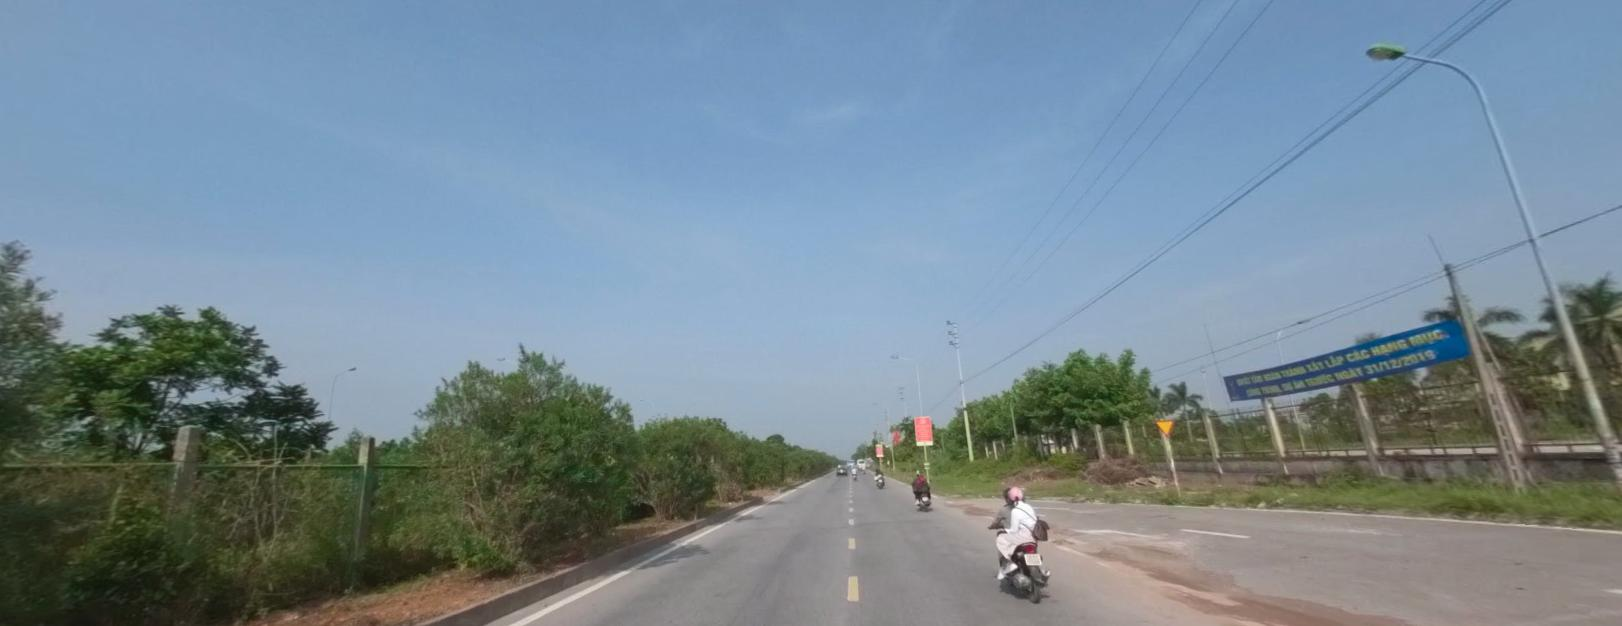Nguy hiem: (1154, 417, 1174, 435)
